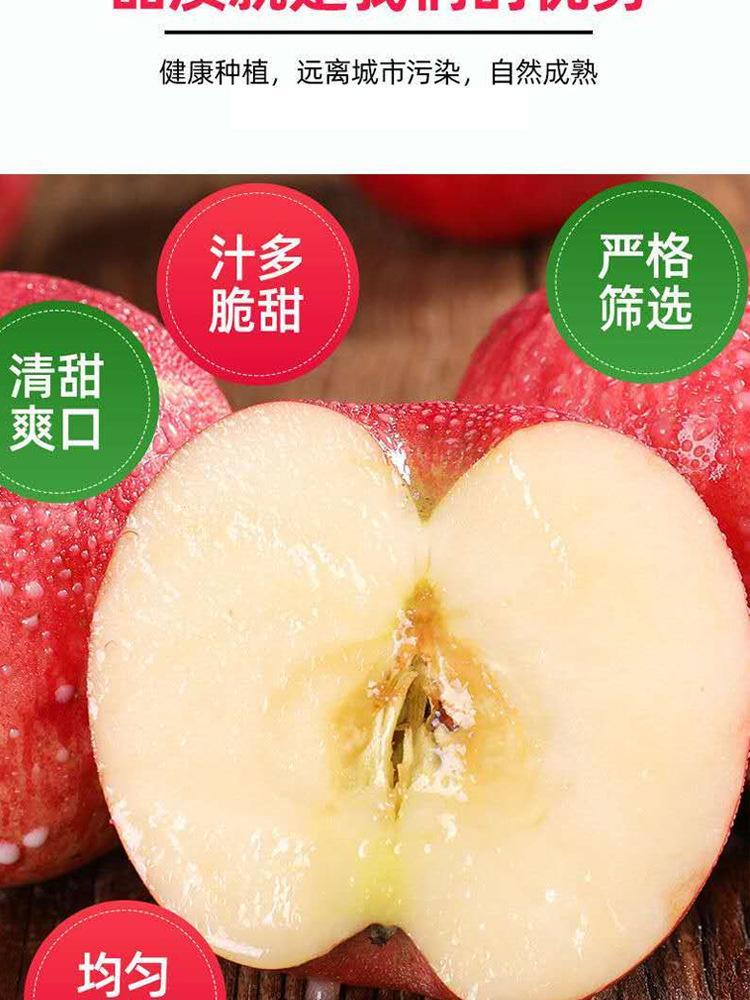apple: (83, 398, 750, 1000)
